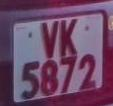2: (77, 49, 99, 96)
5: (18, 57, 43, 102)
7: (59, 52, 79, 98)
8: (39, 56, 62, 98)
K: (57, 15, 81, 56)
V: (38, 17, 62, 61)
